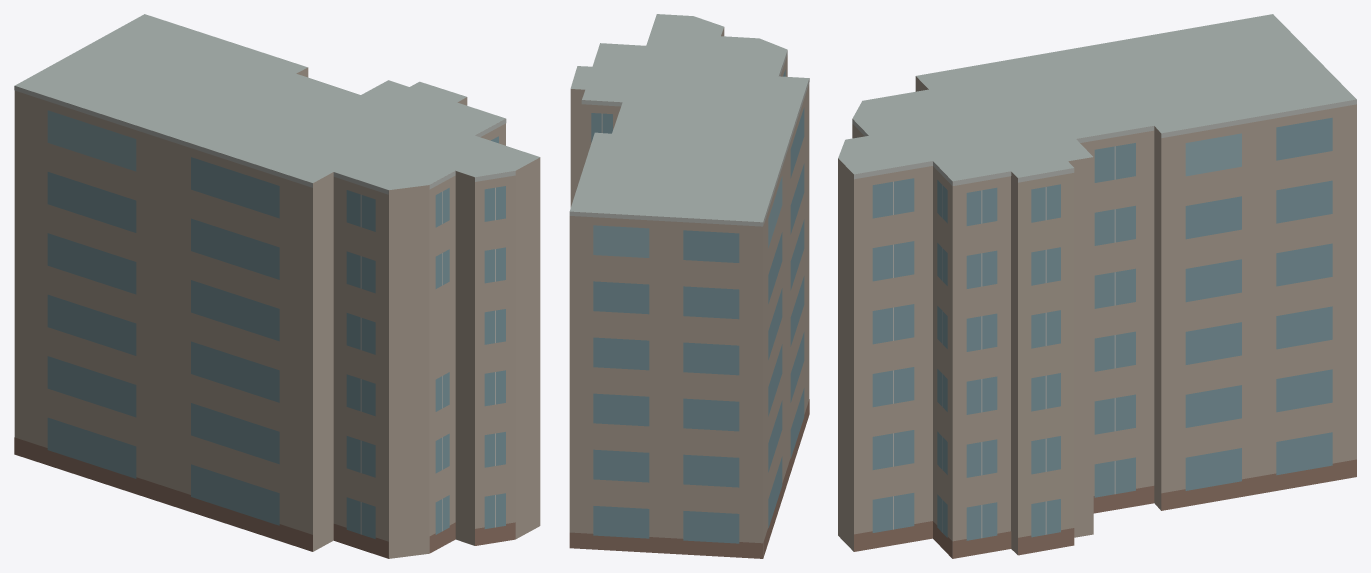
The model's file is survey-upis-32736442.glb.
3 renders of one model, left to right at view 1: azimuth 30°, elevation 25°; view 2: azimuth 150°, elevation 25°; view 3: azimuth 270°, elevation 25°, orthographic. The views are drawn at different scales.
Parts seen in each view (by area): view 1: survey-upis-32736442.tmp; view 2: survey-upis-32736442.tmp; view 3: survey-upis-32736442.tmp.
Boxes of the visible parts, <box> form: survey-upis-32736442.tmp: <box>14,14,540,558</box>; survey-upis-32736442.tmp: <box>569,14,809,558</box>; survey-upis-32736442.tmp: <box>838,14,1356,558</box>.
Bounding box in the file's own units: 18.17 × 19.1 × 23.8.
